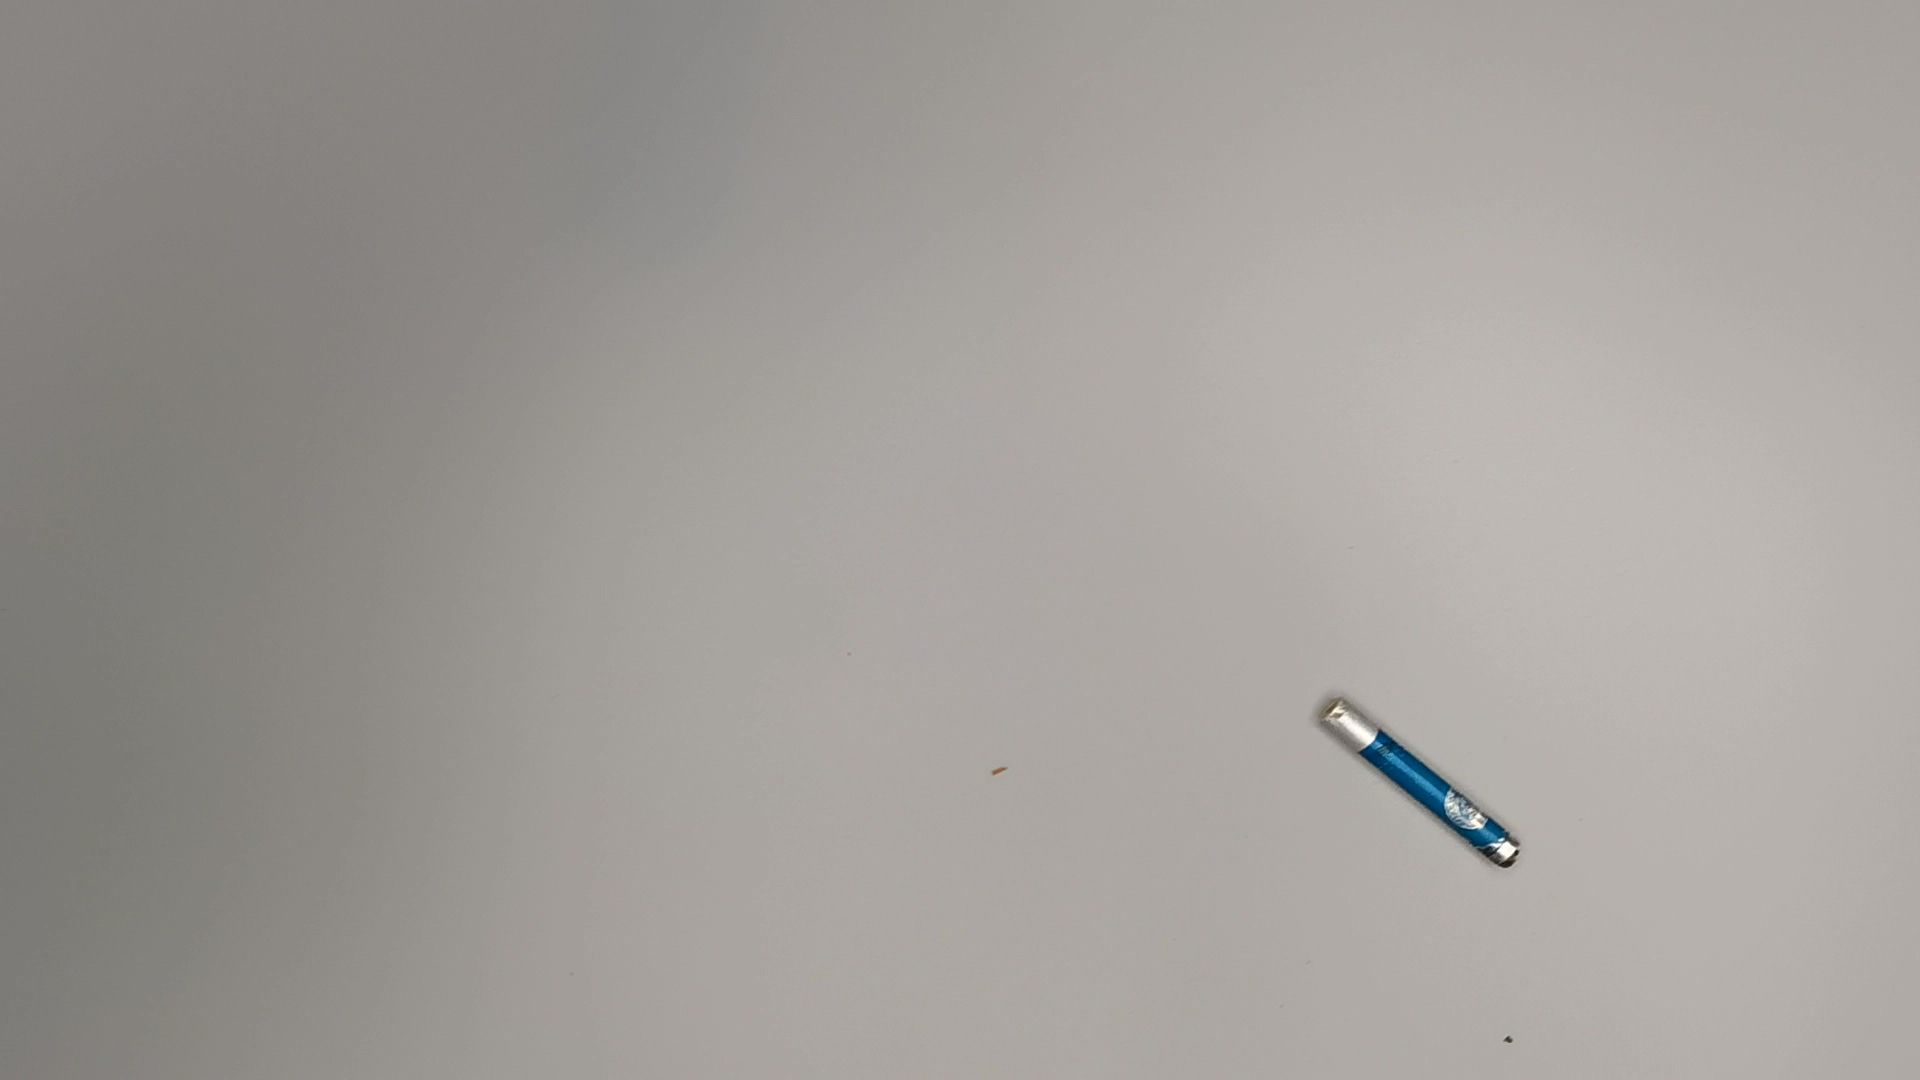cigarette: (1323, 695, 1519, 865)
